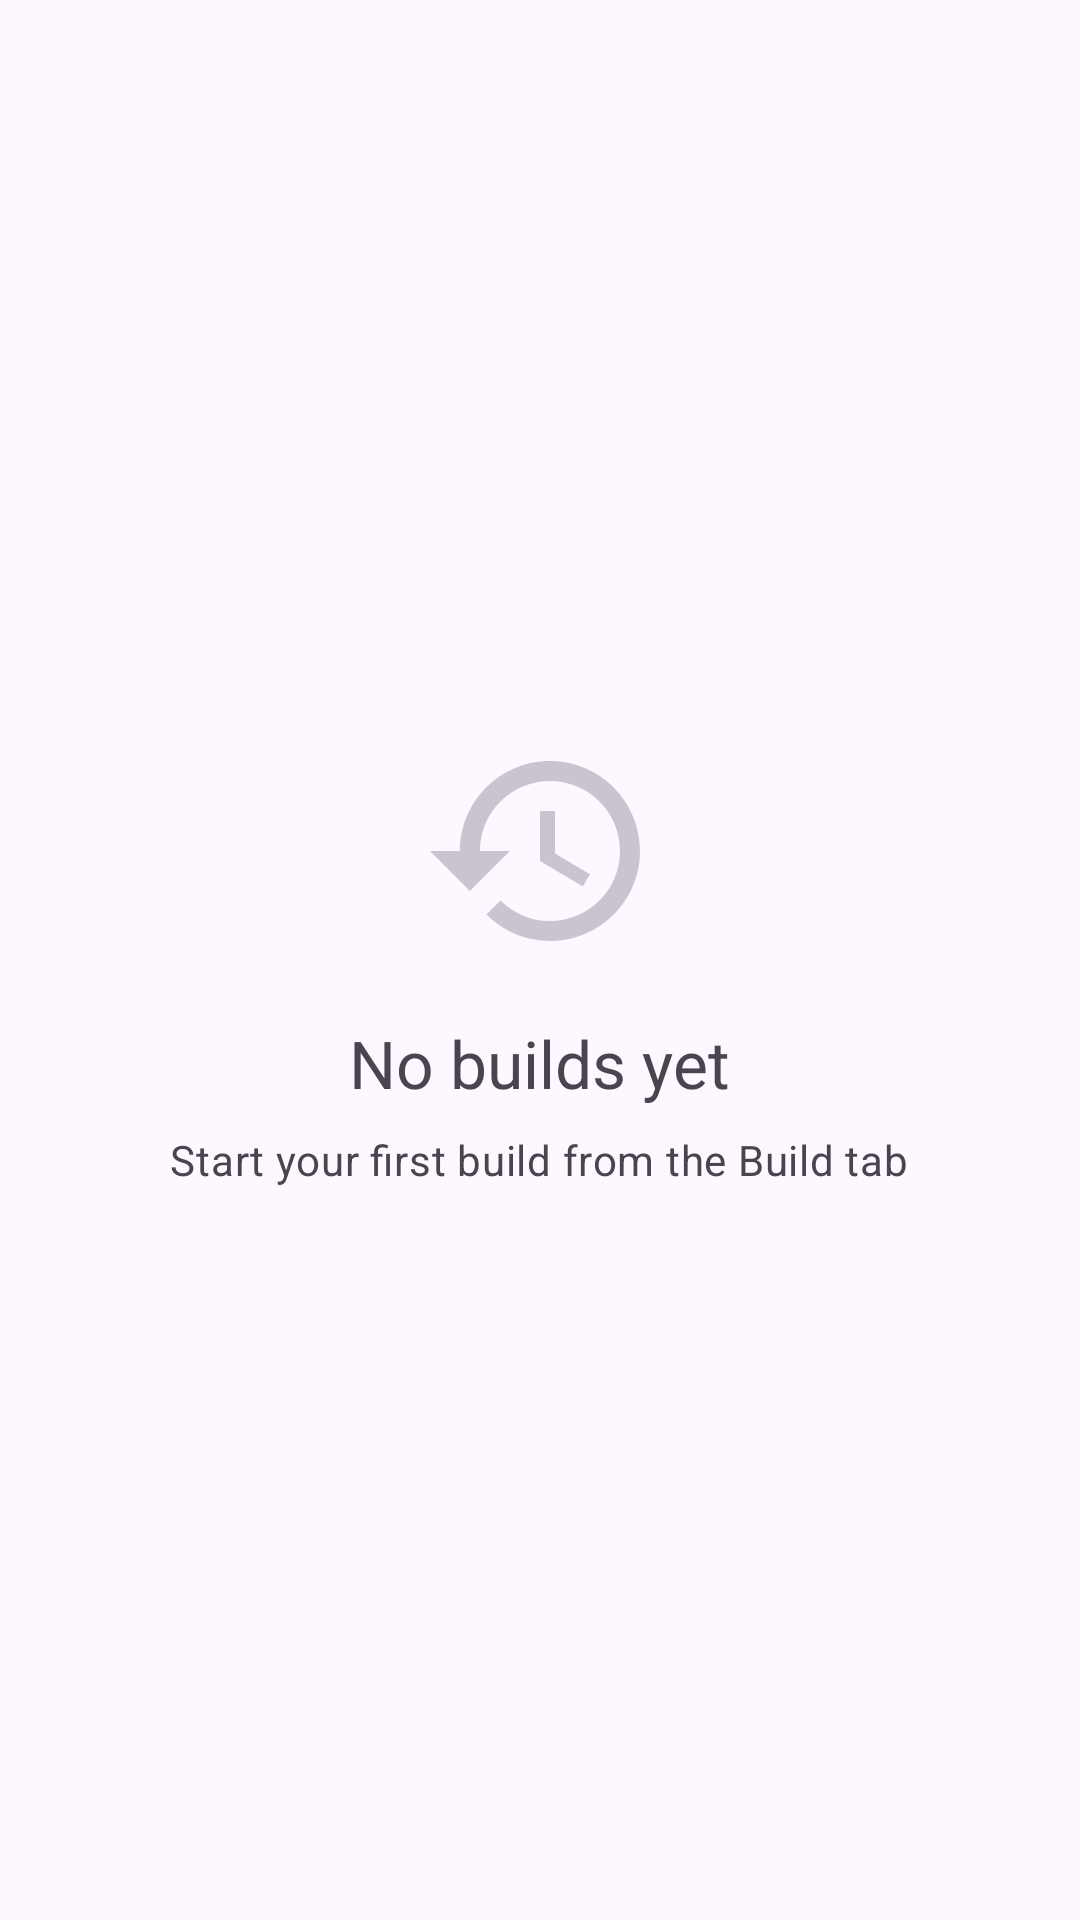

Icon click points for this 1080x1920 phone screenshot, format (x,y):
history: (535,851)
